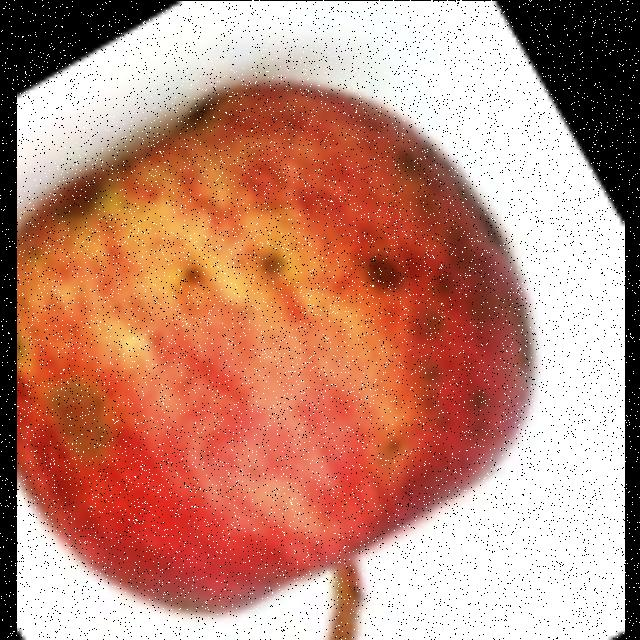Apel Tidak Segar: (16, 76, 564, 624)
